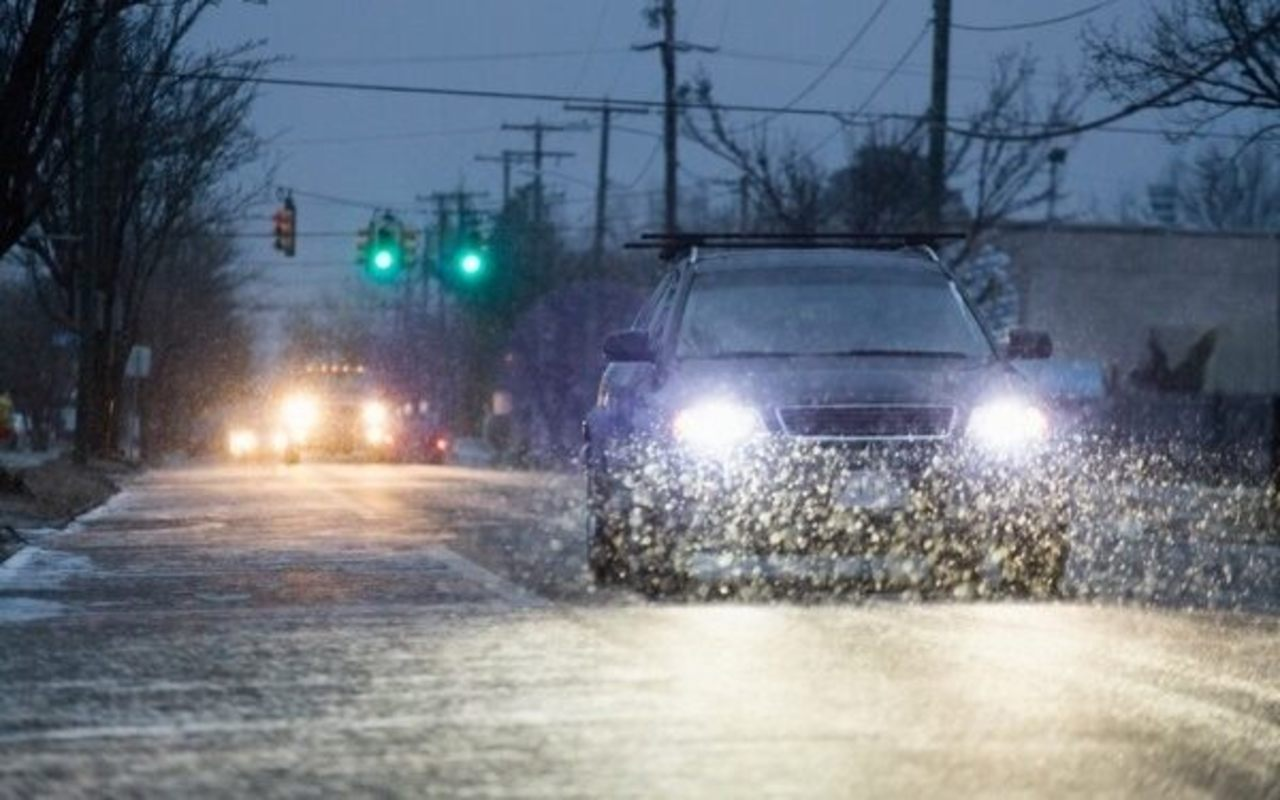car: (580, 232, 1070, 599), (281, 364, 389, 455)
